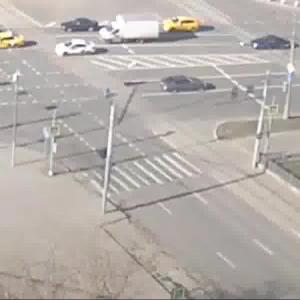car: (101, 19, 157, 48), (163, 75, 232, 97), (47, 37, 99, 60), (247, 36, 300, 54), (63, 18, 101, 38), (160, 19, 204, 36), (1, 28, 30, 52)
